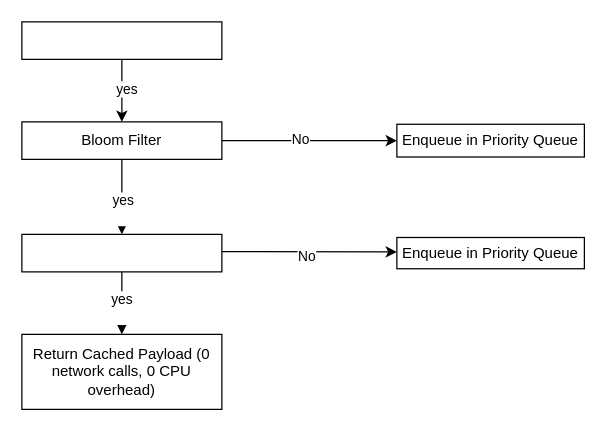
Image size: 606x431. Some labels were removed from this diagram. The centre of each missing label's shape, as x and y in pixels:
Incoming URL request: the point at 121,40
URL in LRU cache: the point at 121,252
